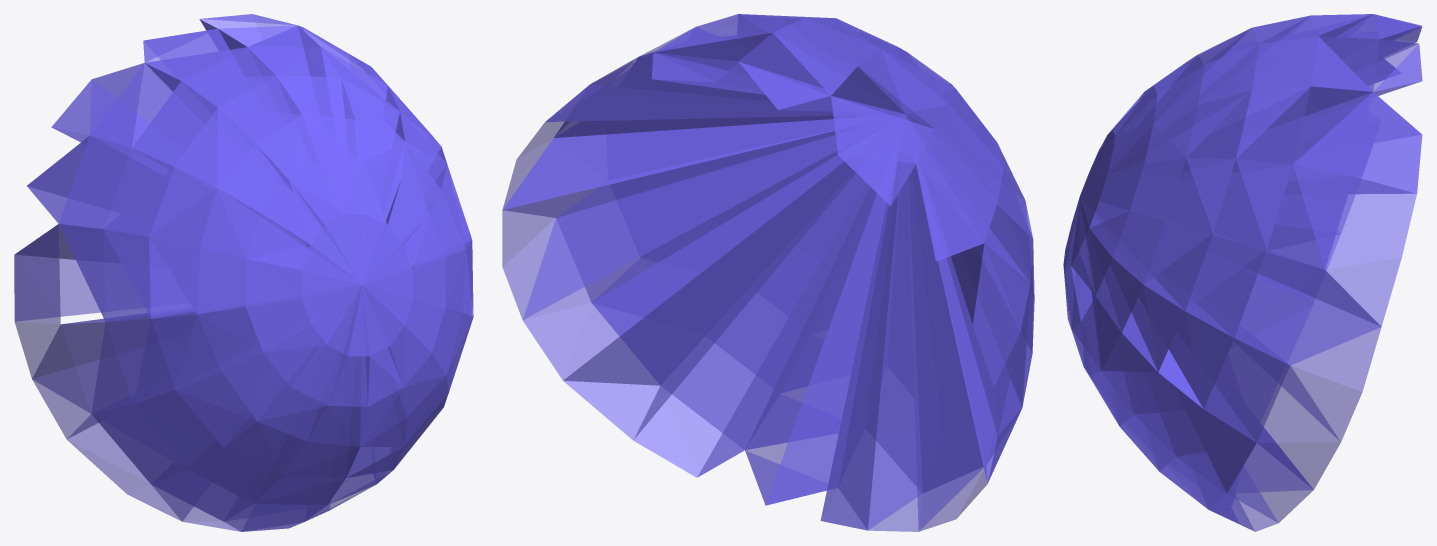
The model's file is S.S._Dolphin_Radiation_Canopy.obj.
3 renders of one model, left to right at view 1: azimuth 30°, elevation 25°; view 2: azimuth 150°, elevation 25°; view 3: azimuth 270°, elevation 25°, orthographic. The views are drawn at different scales.
Parts seen in each view (by area): view 1: S.S._Dolphin_Radiation_Canopy; view 2: S.S._Dolphin_Radiation_Canopy; view 3: S.S._Dolphin_Radiation_Canopy.
Boxes of the visible parts, left/top/right/bottom form: S.S._Dolphin_Radiation_Canopy: left=14, top=14, right=473, bottom=531; S.S._Dolphin_Radiation_Canopy: left=502, top=14, right=1034, bottom=531; S.S._Dolphin_Radiation_Canopy: left=1063, top=14, right=1422, bottom=531.
Bounding box in the file's own units: 2.51 × 2.56 × 1.77.
